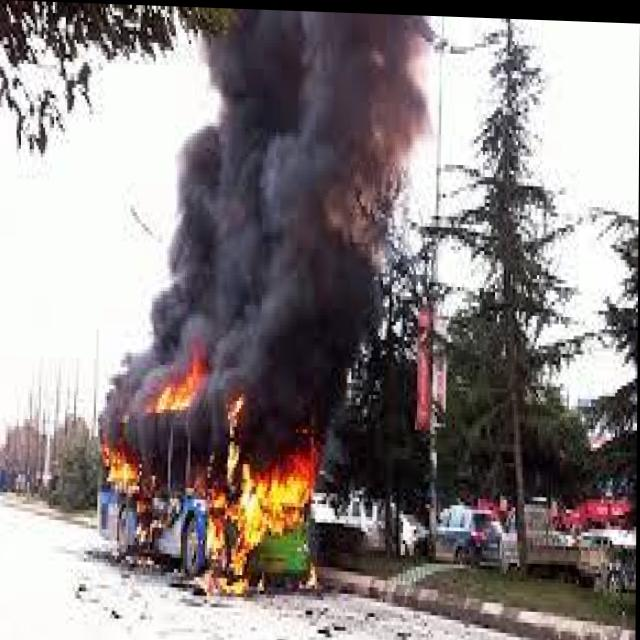fire: (194, 402, 332, 617), (94, 384, 158, 493), (147, 334, 212, 432)
